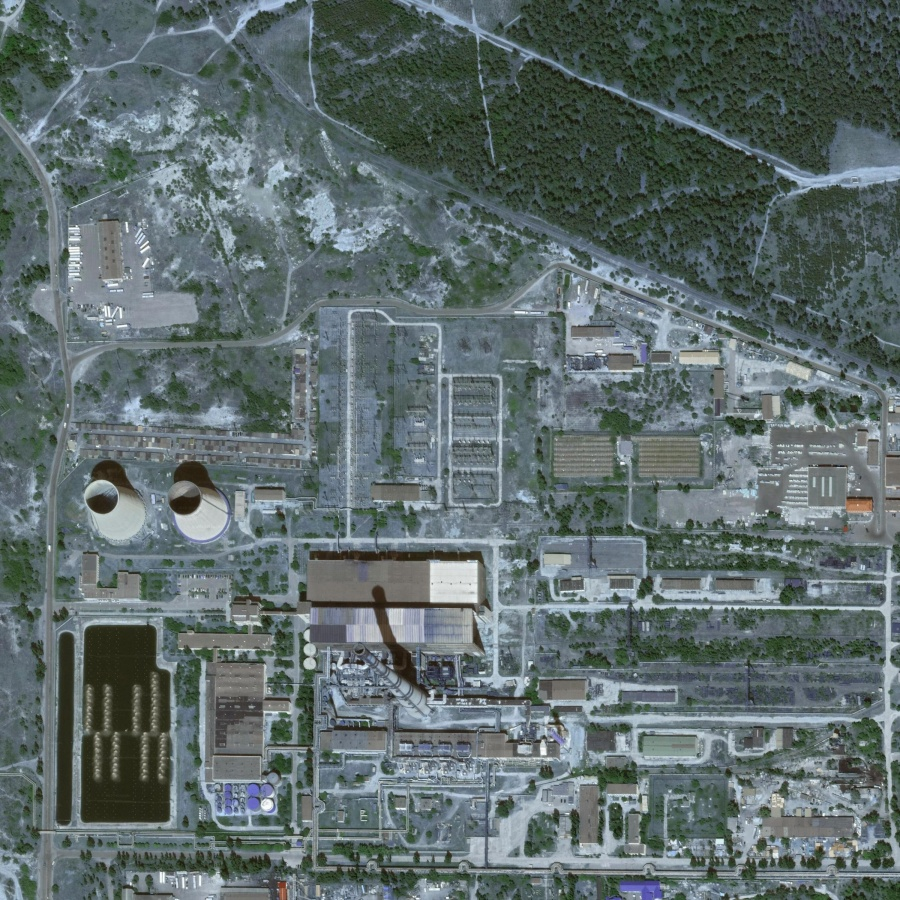PowerPlant: (45, 437, 498, 837)
